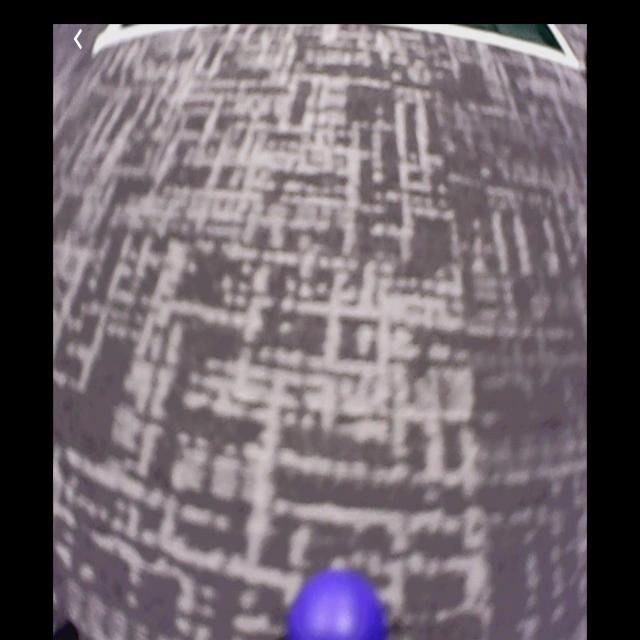ball: (289, 576, 387, 640)
